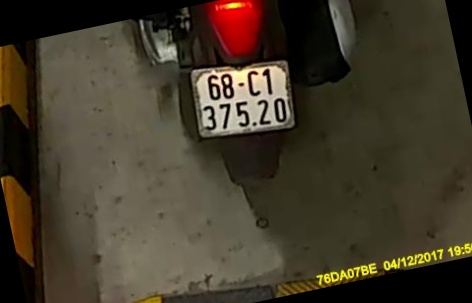plate: (187, 61, 300, 140)
